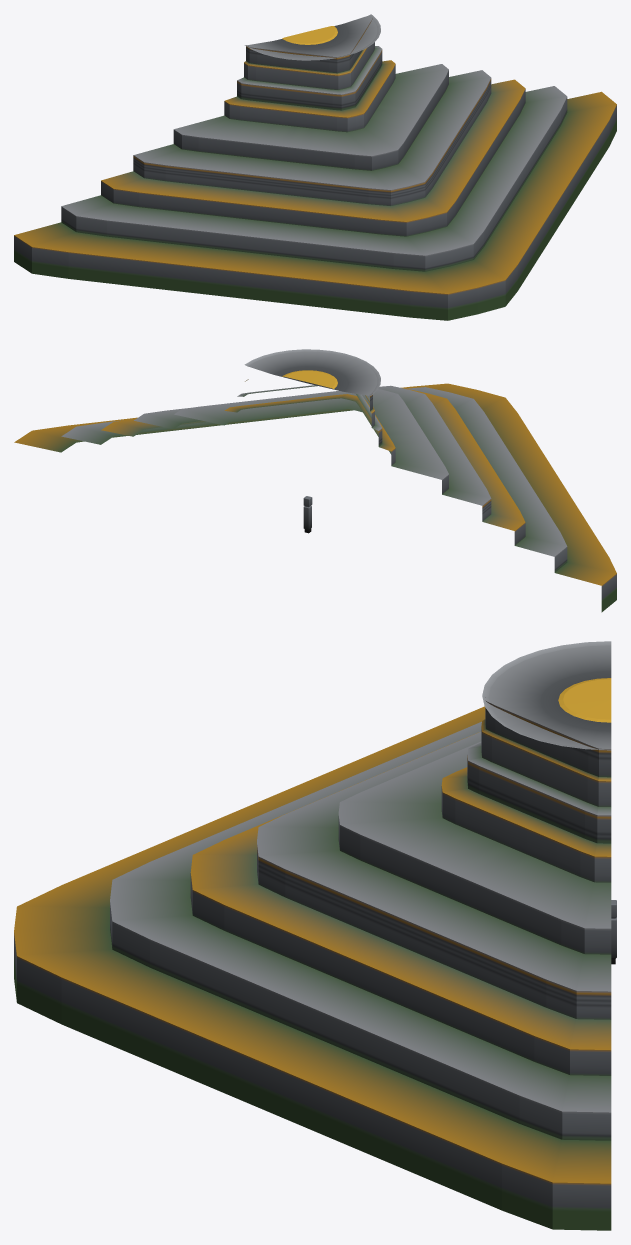
File: temple-s2-B0VOoAlL.glb
3 renders of one model, top to bottom at view 1: azimuth 30°, elevation 25°; view 2: azimuth 150°, elevation 25°; view 3: azimuth 270°, elevation 25°, orthographic. The views are drawn at different scales.
Parts seen in each view (by area): view 1: sc_landmark_1; view 2: sc_landmark_1; view 3: sc_landmark_1.
Boxes of the visible parts, x1=… form: sc_landmark_1: x1=14, y1=14, x2=616, y2=320; sc_landmark_1: x1=14, y1=349, x2=616, y2=612; sc_landmark_1: x1=14, y1=641, x2=611, y2=1230.
Size of the model in its own units: 758 by 198 by 383.
